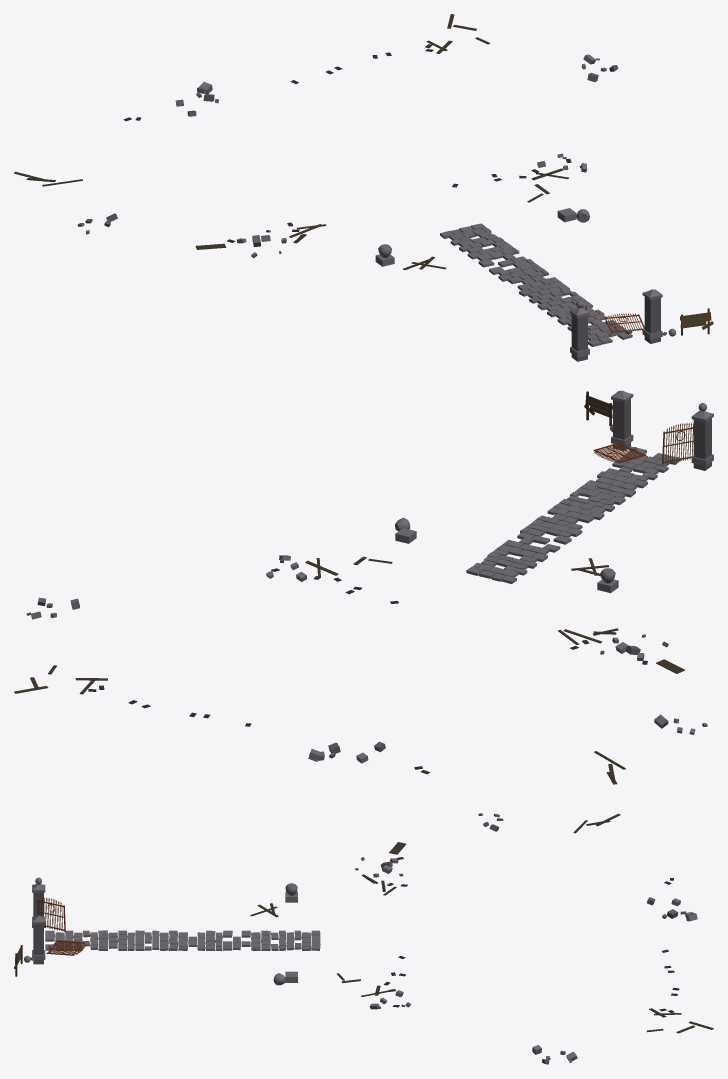
The model's file is SM_Abandoned_Grounds.fbx.
3 views of the same model, one above another, from view 1: azimuth 30°, elevation 25°; view 2: azimuth 150°, elevation 25°; view 3: azimuth 270°, elevation 25° (orthographic). The views are drawn at different scales.
Parts seen in each view (by area): view 1: SM_Abandoned_Grounds; view 2: SM_Abandoned_Grounds; view 3: SM_Abandoned_Grounds.
Part boxes in pixels (x1,y1,x2,y2): SM_Abandoned_Grounds: [14, 14, 713, 361]; SM_Abandoned_Grounds: [14, 390, 713, 784]; SM_Abandoned_Grounds: [14, 813, 713, 1064].
Bounding box in the file's own units: 46.79 × 4.53 × 55.37.
